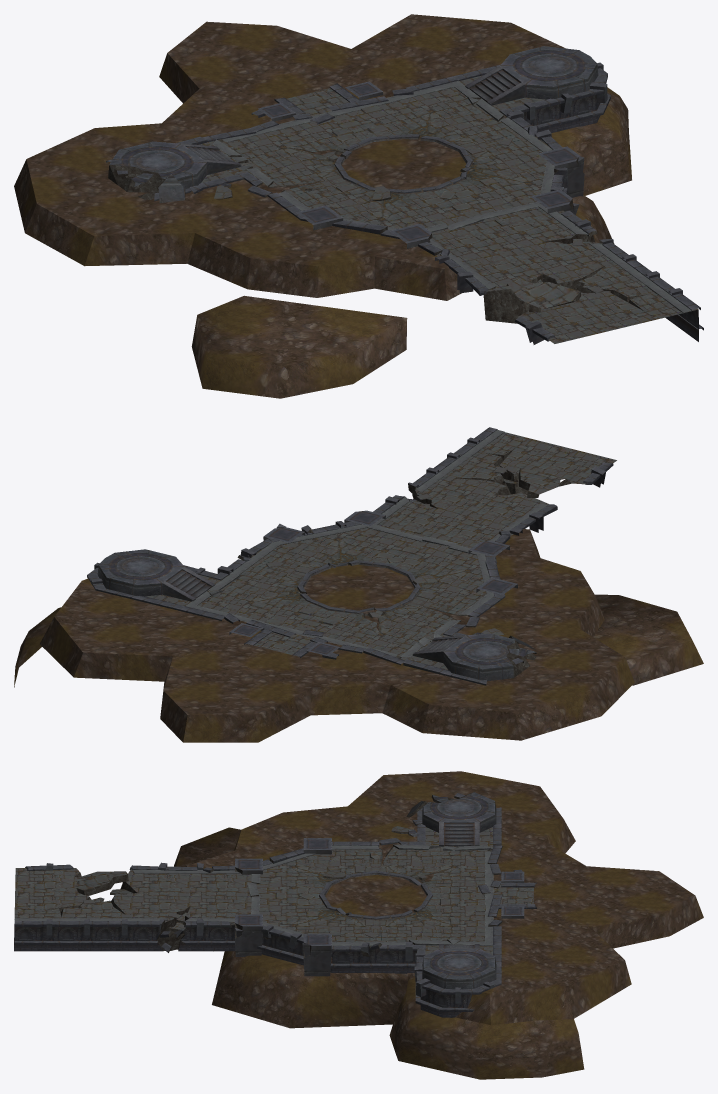
File: terrain_section02_guanka06.FBX
The picture shows the model from 3 angles, top to bottom: view 1: azimuth 30°, elevation 25°; view 2: azimuth 150°, elevation 25°; view 3: azimuth 270°, elevation 25°; orthographic projection. The views are drawn at different scales.
Parts seen in each view (by area): view 1: terrain_section02_guanka05; view 2: terrain_section02_guanka05; view 3: terrain_section02_guanka05.
Boxes of the visible parts, box(x1,y1,x2,y2) form: terrain_section02_guanka05: box(14, 14, 703, 398); terrain_section02_guanka05: box(14, 427, 703, 742); terrain_section02_guanka05: box(14, 771, 703, 1079).
Bounding box in the file's own units: 85.58 × 102 × 13.61.
